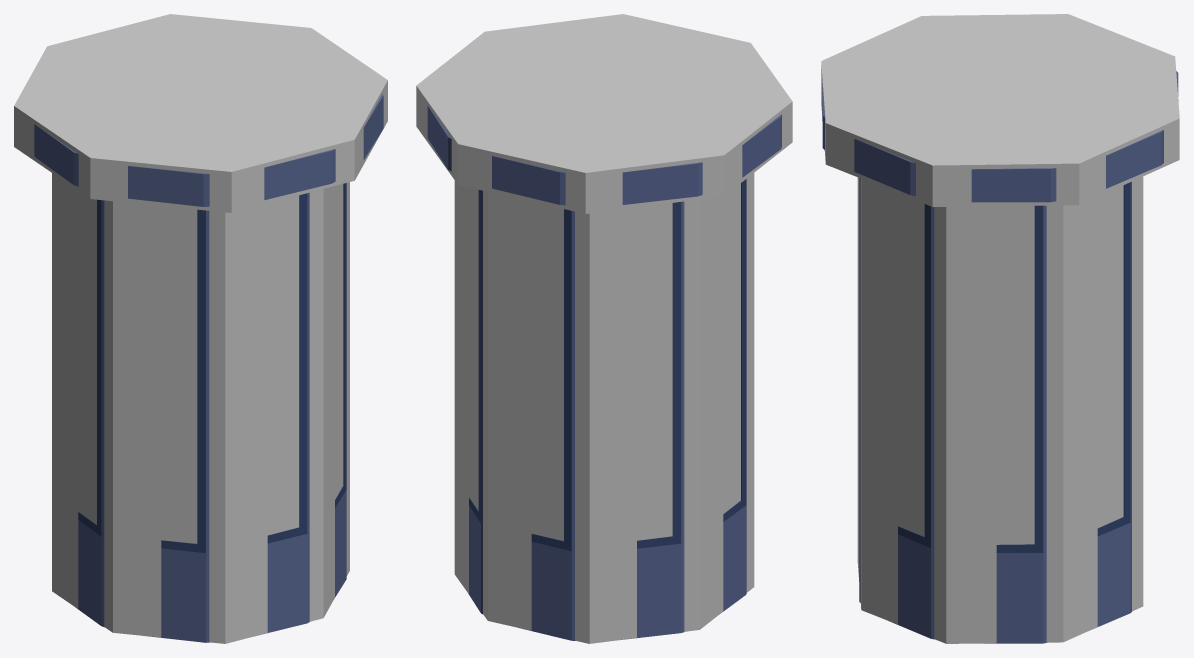
The model's file is SM_Building_17_Middle.fbx.
3 views of the same model, side by side, from view 1: azimuth 30°, elevation 25°; view 2: azimuth 150°, elevation 25°; view 3: azimuth 270°, elevation 25° (orthographic).
Parts seen in each view (by area): view 1: SM_Building_17_Middle_ConvexHulls, SM_Building_17_Middle; view 2: SM_Building_17_Middle_ConvexHulls, SM_Building_17_Middle; view 3: SM_Building_17_Middle_ConvexHulls, SM_Building_17_Middle.
Part boxes in pixels (x1,y1,x2,y2): SM_Building_17_Middle_ConvexHulls: (14, 14, 387, 643); SM_Building_17_Middle: (34, 94, 383, 642); SM_Building_17_Middle_ConvexHulls: (416, 14, 792, 643); SM_Building_17_Middle: (427, 106, 781, 640); SM_Building_17_Middle_ConvexHulls: (821, 14, 1179, 643); SM_Building_17_Middle: (822, 71, 1178, 643).
Size of the model in its own units: 863 by 863 by 1312.
2 materials, 1 textured.
